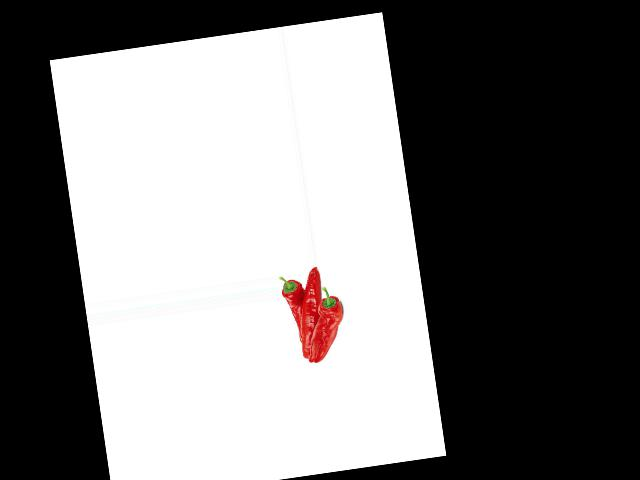bell_pepper: (307, 282, 352, 363)
